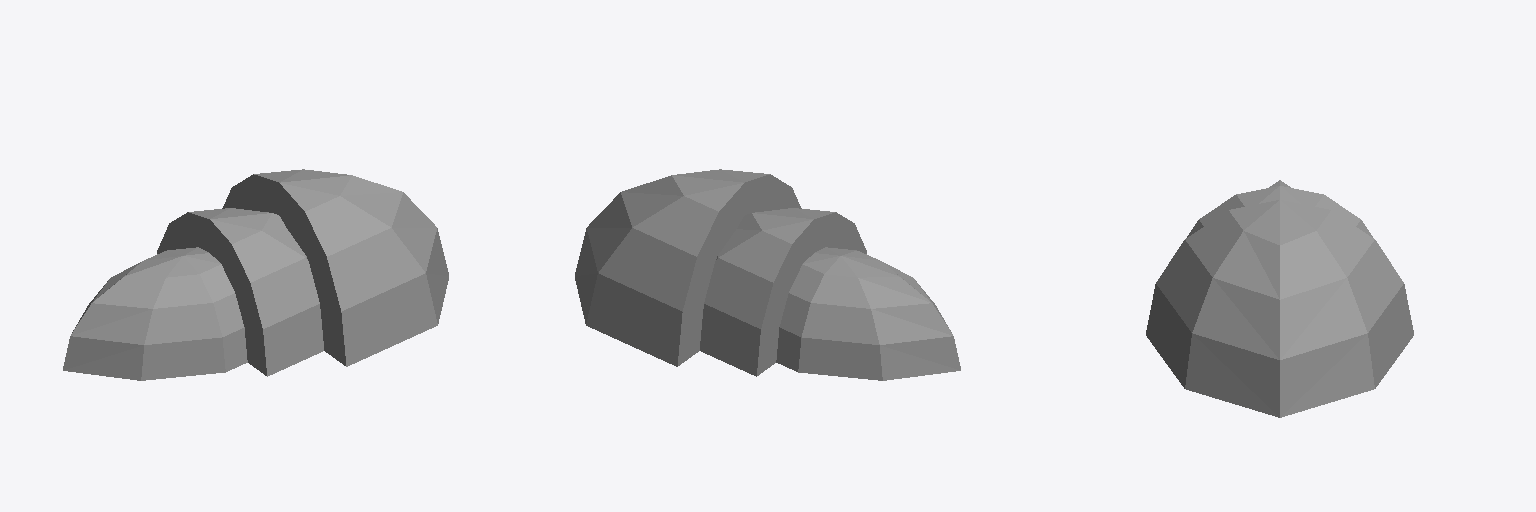
The model's file is Worm.obj.
3 views of the same model, side by side, from view 1: azimuth 30°, elevation 25°; view 2: azimuth 150°, elevation 25°; view 3: azimuth 270°, elevation 25° (orthographic).
Parts seen in each view (by area): view 1: Sphere_Sphere.006; view 2: Sphere_Sphere.006; view 3: Sphere_Sphere.006.
Part boxes in pixels (x1,y1,x2,y2): Sphere_Sphere.006: (63,169,448,380); Sphere_Sphere.006: (575,169,960,380); Sphere_Sphere.006: (1146,180,1413,417).
Size of the model in its own units: 4.5 by 1.5 by 2.71.